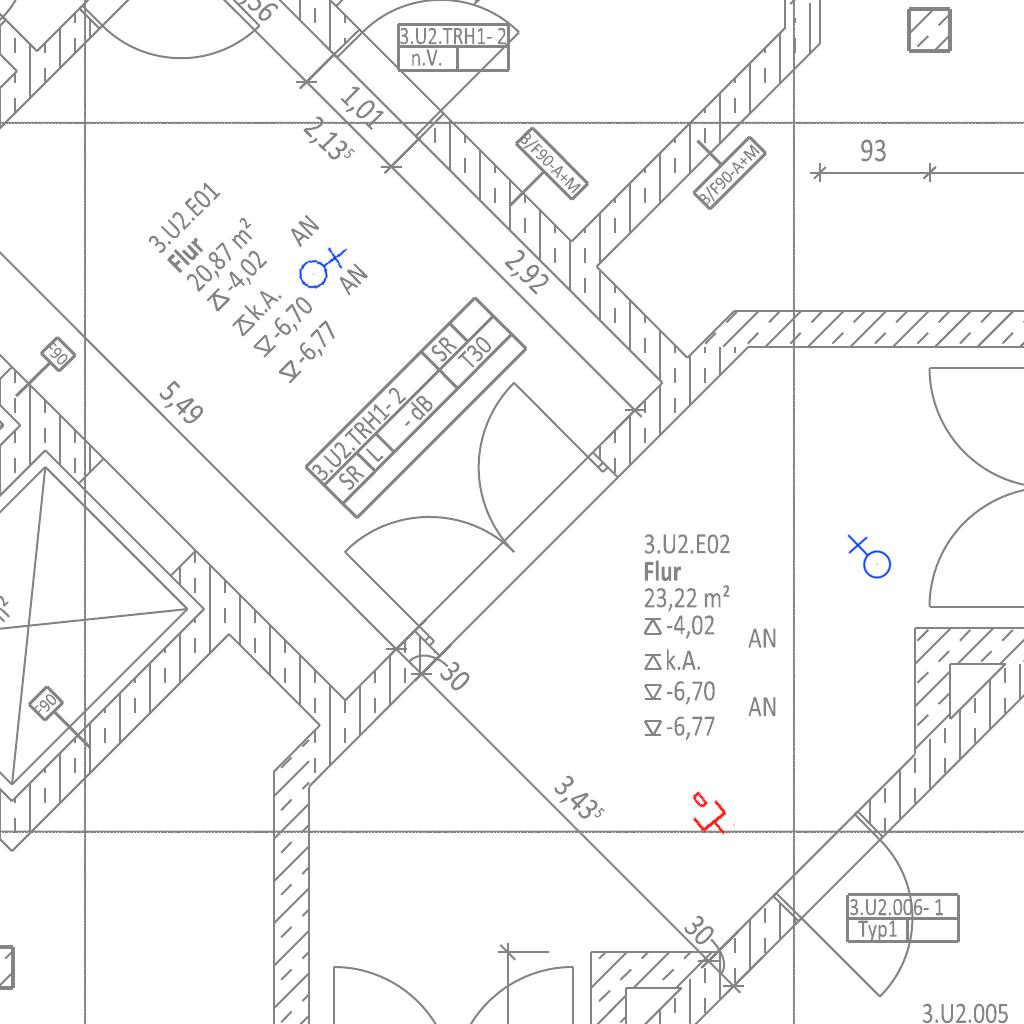Datenanschluss_einfach: (680, 784, 738, 846)
Elektroanschluss_allgemein_230V_Geraeteanschlussdose_230V: (292, 239, 349, 294), (845, 534, 892, 583)
